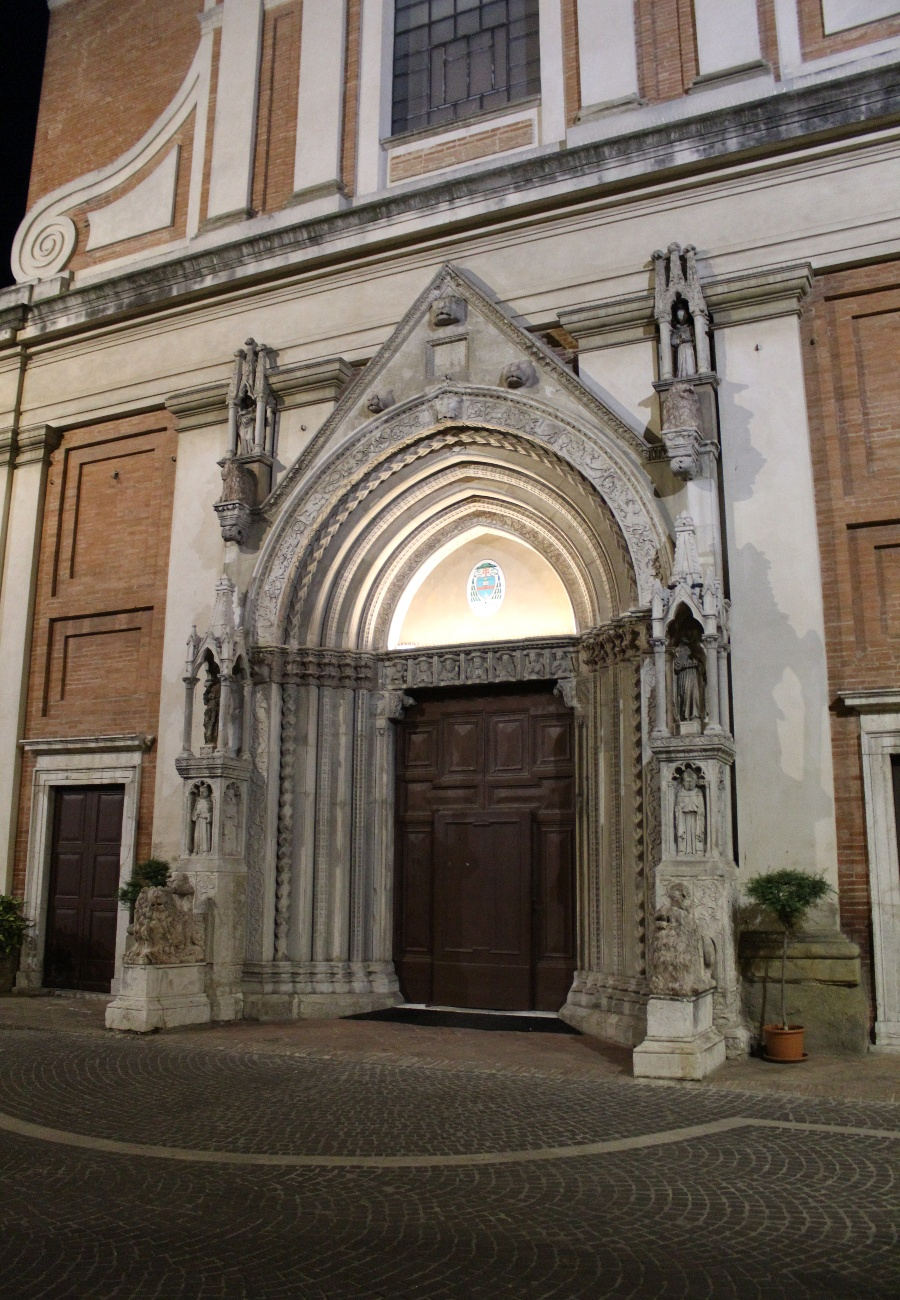Chiesa San Agostino: (1, 1, 900, 1097)
